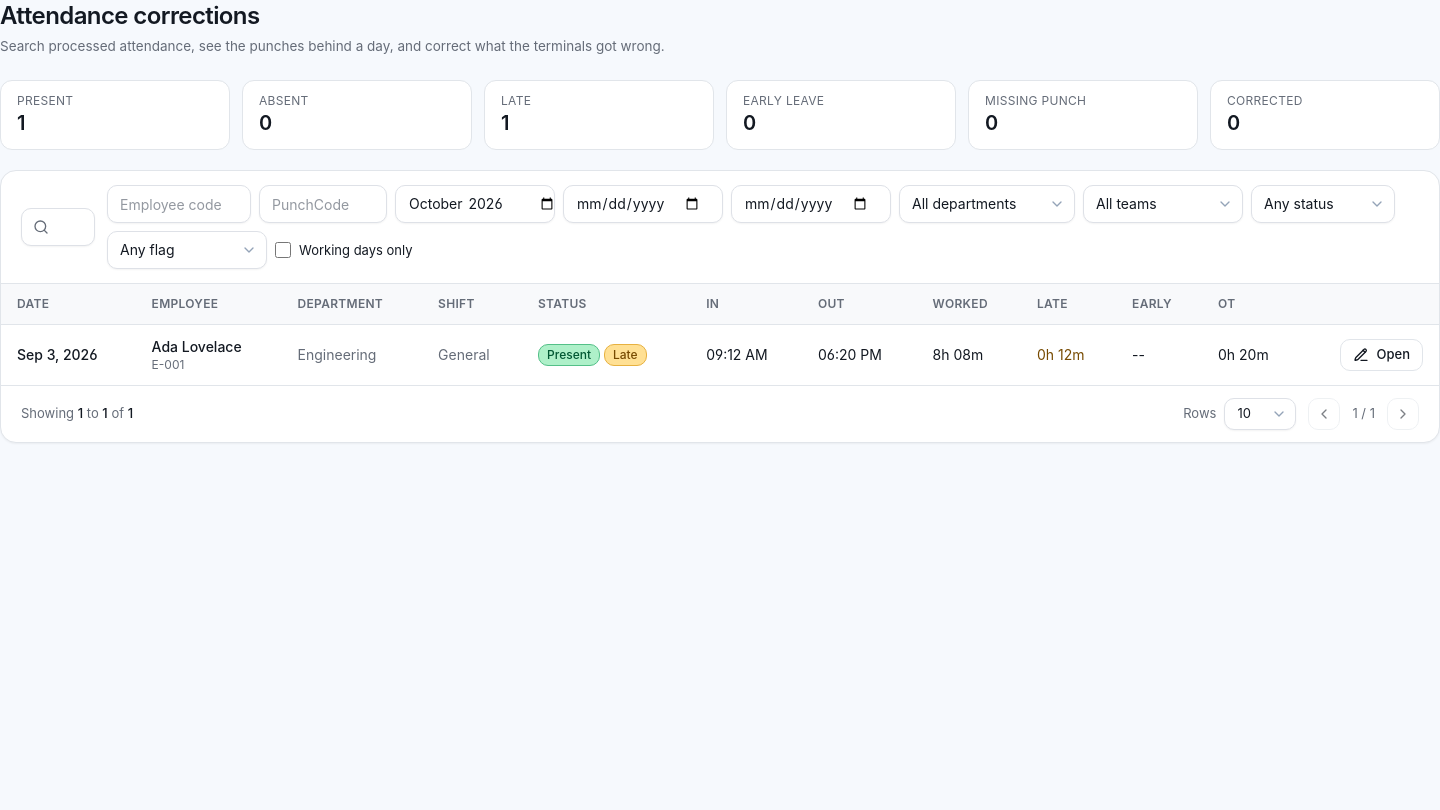
the correction itself › refuses to submit without a reason, and accepts one
Later steps or results of the test are not shown.
Click the button "Open" at [1381, 355], box [1340,339,1423,371]
(page scrolled)
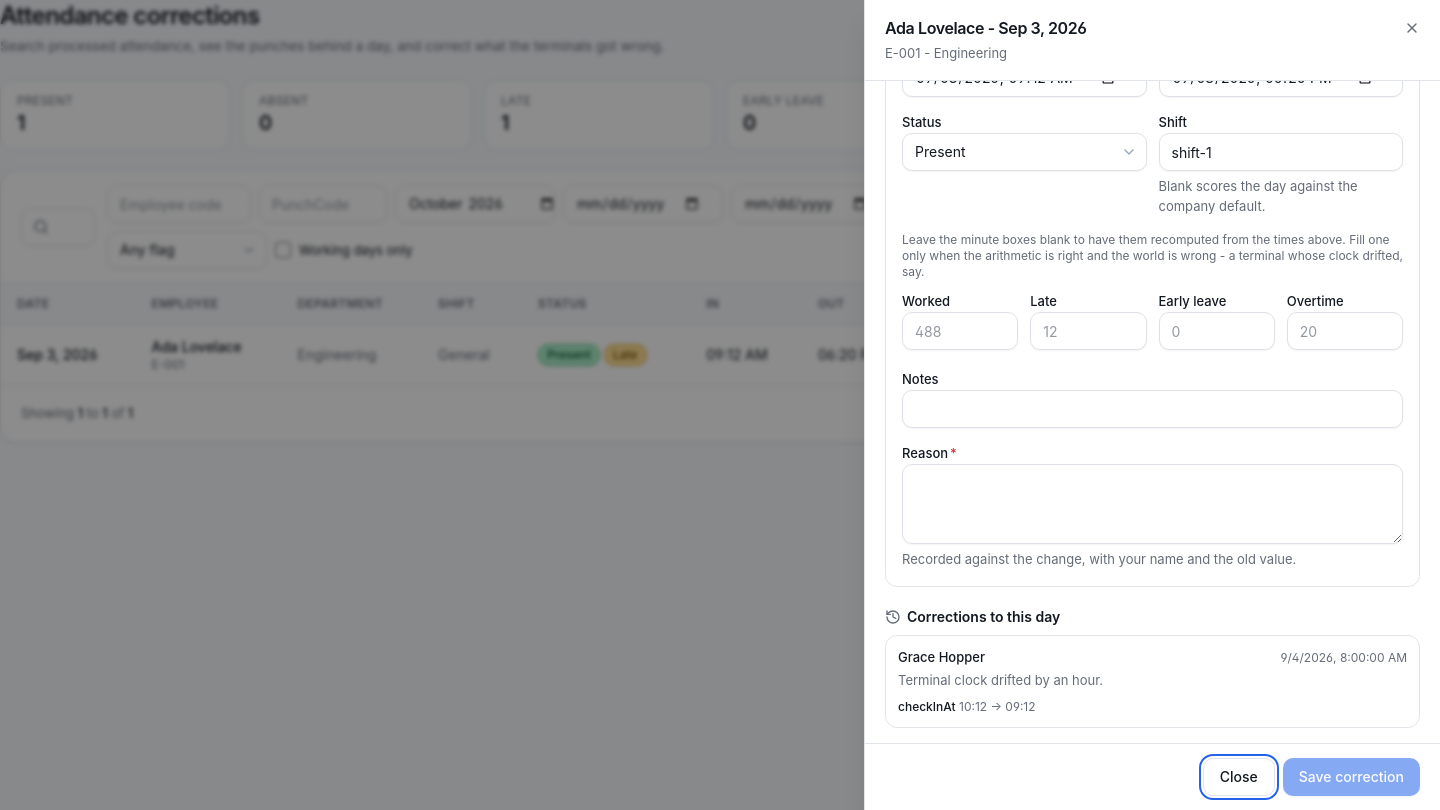
expect the button "Save correction" is disabled: met, box [1283,758,1420,796]
Type "Terminal clock drifted." into the text box labelled "Reason*" at [1152, 504], box [902,464,1403,544]
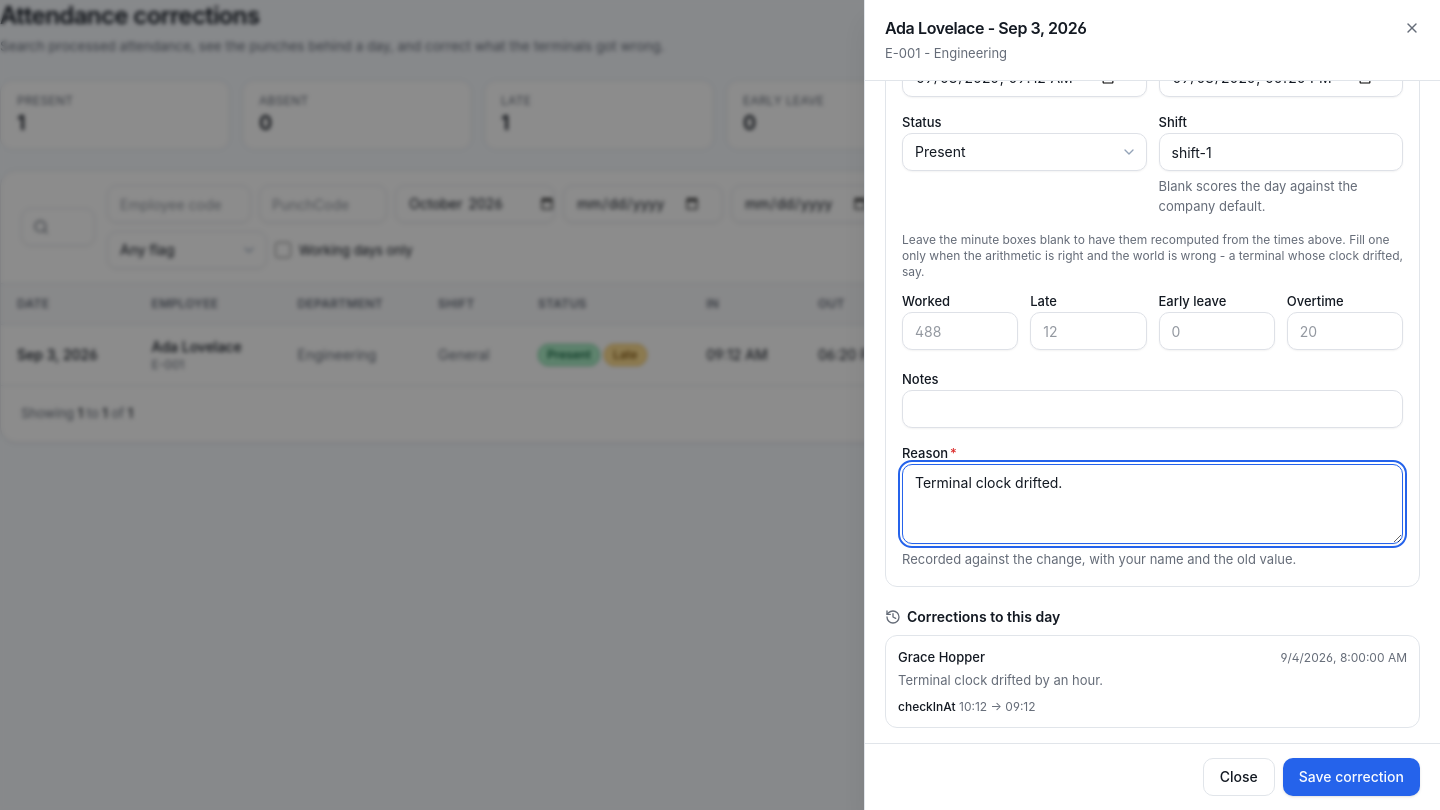
expect the button "Save correction" is enabled: met, box [1283,758,1420,796]
